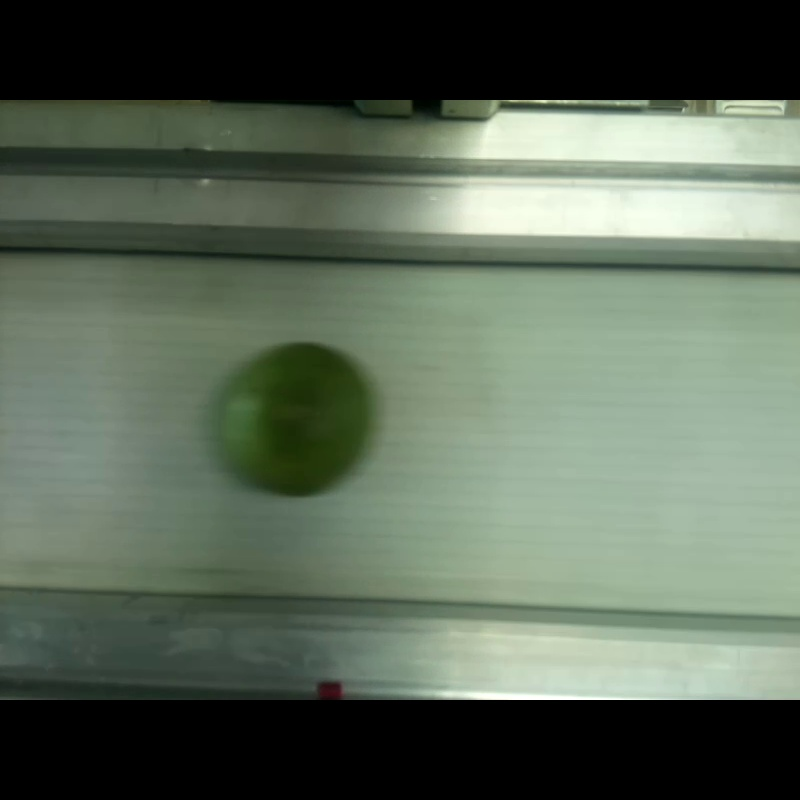lime: (222, 344, 368, 494)
